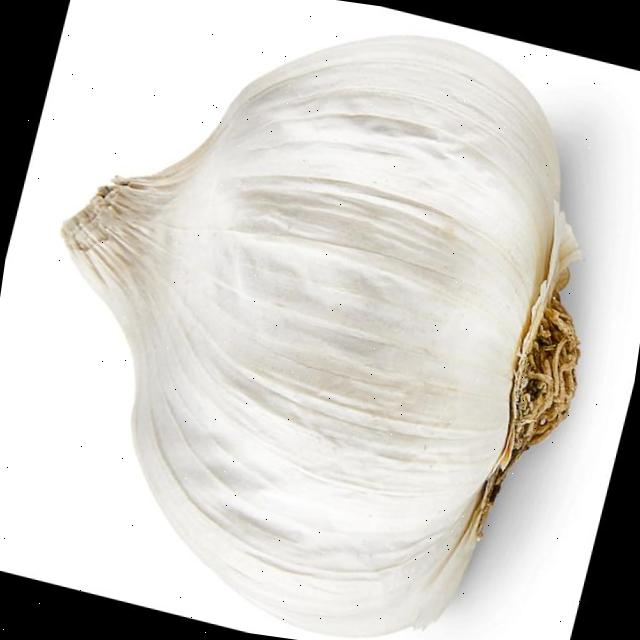garlic: (63, 37, 579, 635)
